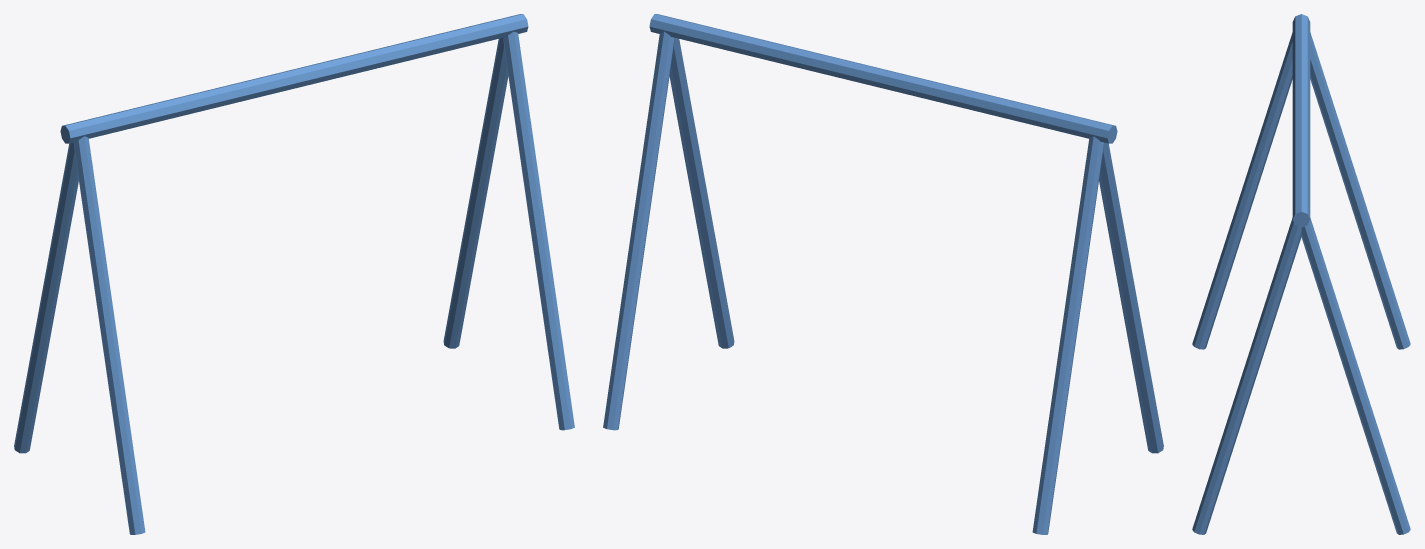
File: swing_frame.glb
3 views of the same model, side by side, from view 1: azimuth 30°, elevation 25°; view 2: azimuth 150°, elevation 25°; view 3: azimuth 270°, elevation 25° (orthographic). The views are drawn at different scales.
Visible parts, largest first — view 1: SwingFrame; view 2: SwingFrame; view 3: SwingFrame.
Part boxes in pixels (<box>): SwingFrame: <box>14,14,574,534</box>; SwingFrame: <box>603,14,1163,534</box>; SwingFrame: <box>1192,14,1410,534</box>.
Size of the model in its own units: 3.2 by 2.47 by 1.5.
